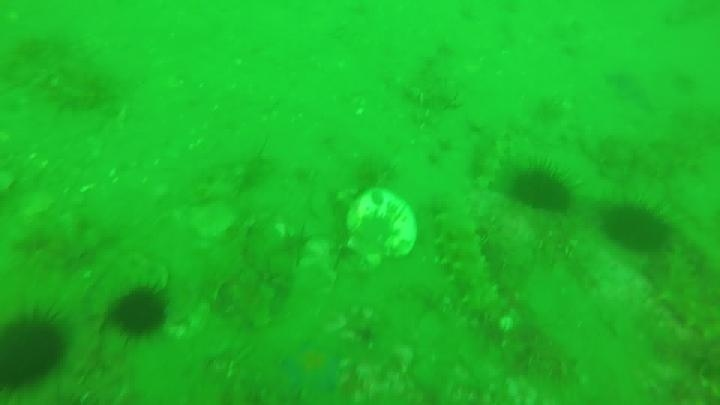echinus: (1, 308, 70, 393), (599, 200, 674, 255), (507, 162, 576, 216), (108, 285, 171, 340)
holothurian: (432, 205, 502, 316), (646, 244, 719, 343)
scallop: (341, 188, 420, 269), (188, 201, 238, 242)
starfish: (280, 339, 346, 399)
